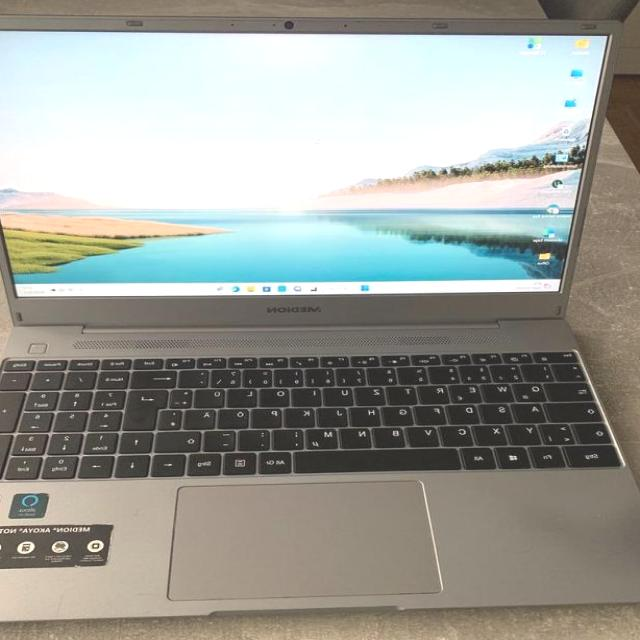0: (246, 367, 276, 385)
1: (524, 362, 558, 380)
2: (493, 362, 525, 380)
3: (462, 363, 494, 381)
4: (432, 364, 462, 382)
5: (402, 365, 432, 383)
6: (370, 365, 400, 383)
7: (339, 366, 369, 384)
8: (309, 365, 338, 385)
9: (276, 367, 308, 385)
a: (516, 400, 550, 420)
accent: (183, 367, 213, 385)
ae: (188, 406, 220, 427)
alt-left: (464, 445, 500, 467)
altgr-right: (262, 449, 296, 471)
b: (376, 424, 410, 446)
c: (443, 422, 477, 444)
caret: (556, 361, 592, 379)
comma: (276, 426, 308, 448)
d: (450, 402, 484, 422)
del: (134, 367, 181, 387)
e: (454, 381, 486, 401)
enter: (127, 387, 172, 427)
f: (418, 403, 450, 423)
g: (387, 404, 417, 424)
h: (353, 404, 385, 424)
hash: (162, 406, 187, 427)
i: (295, 385, 325, 403)
j: (321, 405, 353, 425)
k: (288, 405, 320, 425)
keyboard: (0, 346, 625, 479)
l: (254, 405, 286, 426)
less: (543, 421, 579, 443)
m: (310, 426, 342, 448)
minus: (207, 427, 241, 449)
n: (343, 425, 375, 446)
o: (263, 386, 295, 406)
oe: (222, 406, 254, 426)
p: (230, 386, 262, 406)
plus: (174, 386, 196, 406)
point: (242, 427, 274, 448)
q: (517, 380, 551, 400)
r: (422, 382, 454, 402)
s: (485, 401, 517, 421)
shift-left: (578, 420, 612, 442)
shift-lock: (549, 400, 607, 420)
shift-right: (159, 428, 206, 450)
space: (293, 446, 464, 475)
ss: (214, 367, 244, 385)
strg-left: (565, 442, 616, 466)
strg-right: (191, 451, 225, 473)
t: (390, 383, 422, 403)
tab: (549, 379, 599, 399)
u: (328, 385, 358, 403)
ue: (198, 386, 230, 406)
v: (411, 423, 443, 444)
w: (486, 381, 518, 401)
x: (477, 422, 511, 444)
y: (511, 421, 545, 443)
z: (359, 385, 389, 403)
